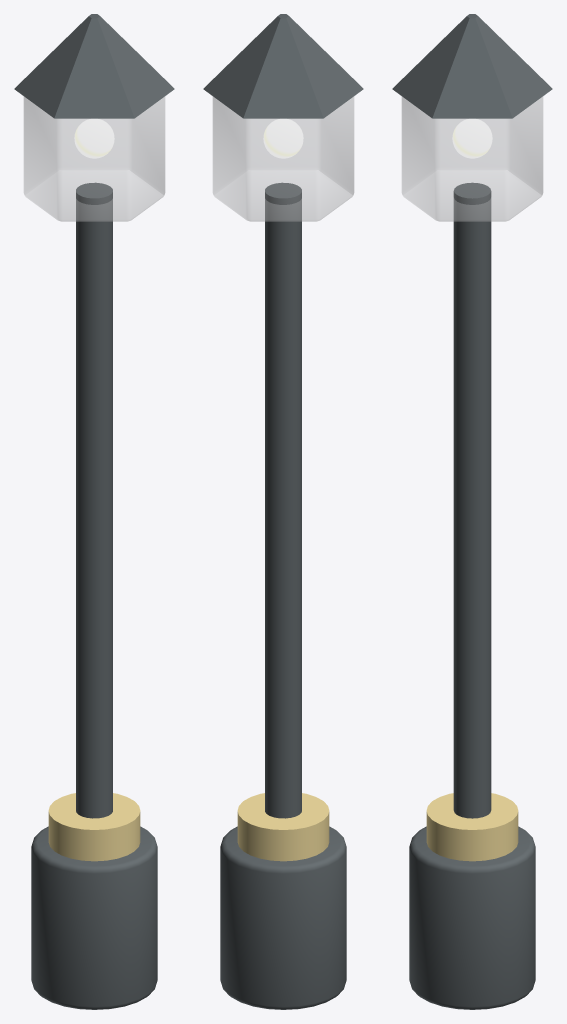
Rendered from amsterdam-lantern-post.glb.
The picture shows the model from 3 angles, left to right: view 1: azimuth 30°, elevation 25°; view 2: azimuth 150°, elevation 25°; view 3: azimuth 270°, elevation 25°; orthographic projection.
Parts seen in each view (by area): view 1: lamp_PoleShaft, lamp_CastIronBase, lamp_HexagonalHousing, lamp_RoofFinial, lamp_AmsterdamCrestRing, lamp_WarmFilament; view 2: lamp_PoleShaft, lamp_CastIronBase, lamp_HexagonalHousing, lamp_RoofFinial, lamp_AmsterdamCrestRing, lamp_WarmFilament; view 3: lamp_PoleShaft, lamp_CastIronBase, lamp_HexagonalHousing, lamp_RoofFinial, lamp_AmsterdamCrestRing, lamp_WarmFilament.
Boxes of the visible parts, x1,y1,x2,y2 form: lamp_PoleShaft: (76, 182, 112, 818); lamp_CastIronBase: (31, 826, 157, 1009); lamp_HexagonalHousing: (23, 96, 165, 221); lamp_RoofFinial: (14, 14, 174, 118); lamp_AmsterdamCrestRing: (48, 793, 140, 861); lamp_WarmFilament: (74, 118, 114, 158); lamp_PoleShaft: (265, 182, 301, 818); lamp_CastIronBase: (220, 826, 346, 1009); lamp_HexagonalHousing: (212, 96, 354, 221); lamp_RoofFinial: (203, 14, 363, 118); lamp_AmsterdamCrestRing: (237, 793, 329, 861); lamp_WarmFilament: (263, 118, 303, 158); lamp_PoleShaft: (453, 182, 491, 818); lamp_CastIronBase: (409, 826, 535, 1009); lamp_HexagonalHousing: (401, 96, 543, 221); lamp_RoofFinial: (392, 14, 552, 118); lamp_AmsterdamCrestRing: (426, 793, 518, 861); lamp_WarmFilament: (452, 118, 492, 158).
Bounding box in the file's own units: 0.485 × 3.72 × 0.56.
